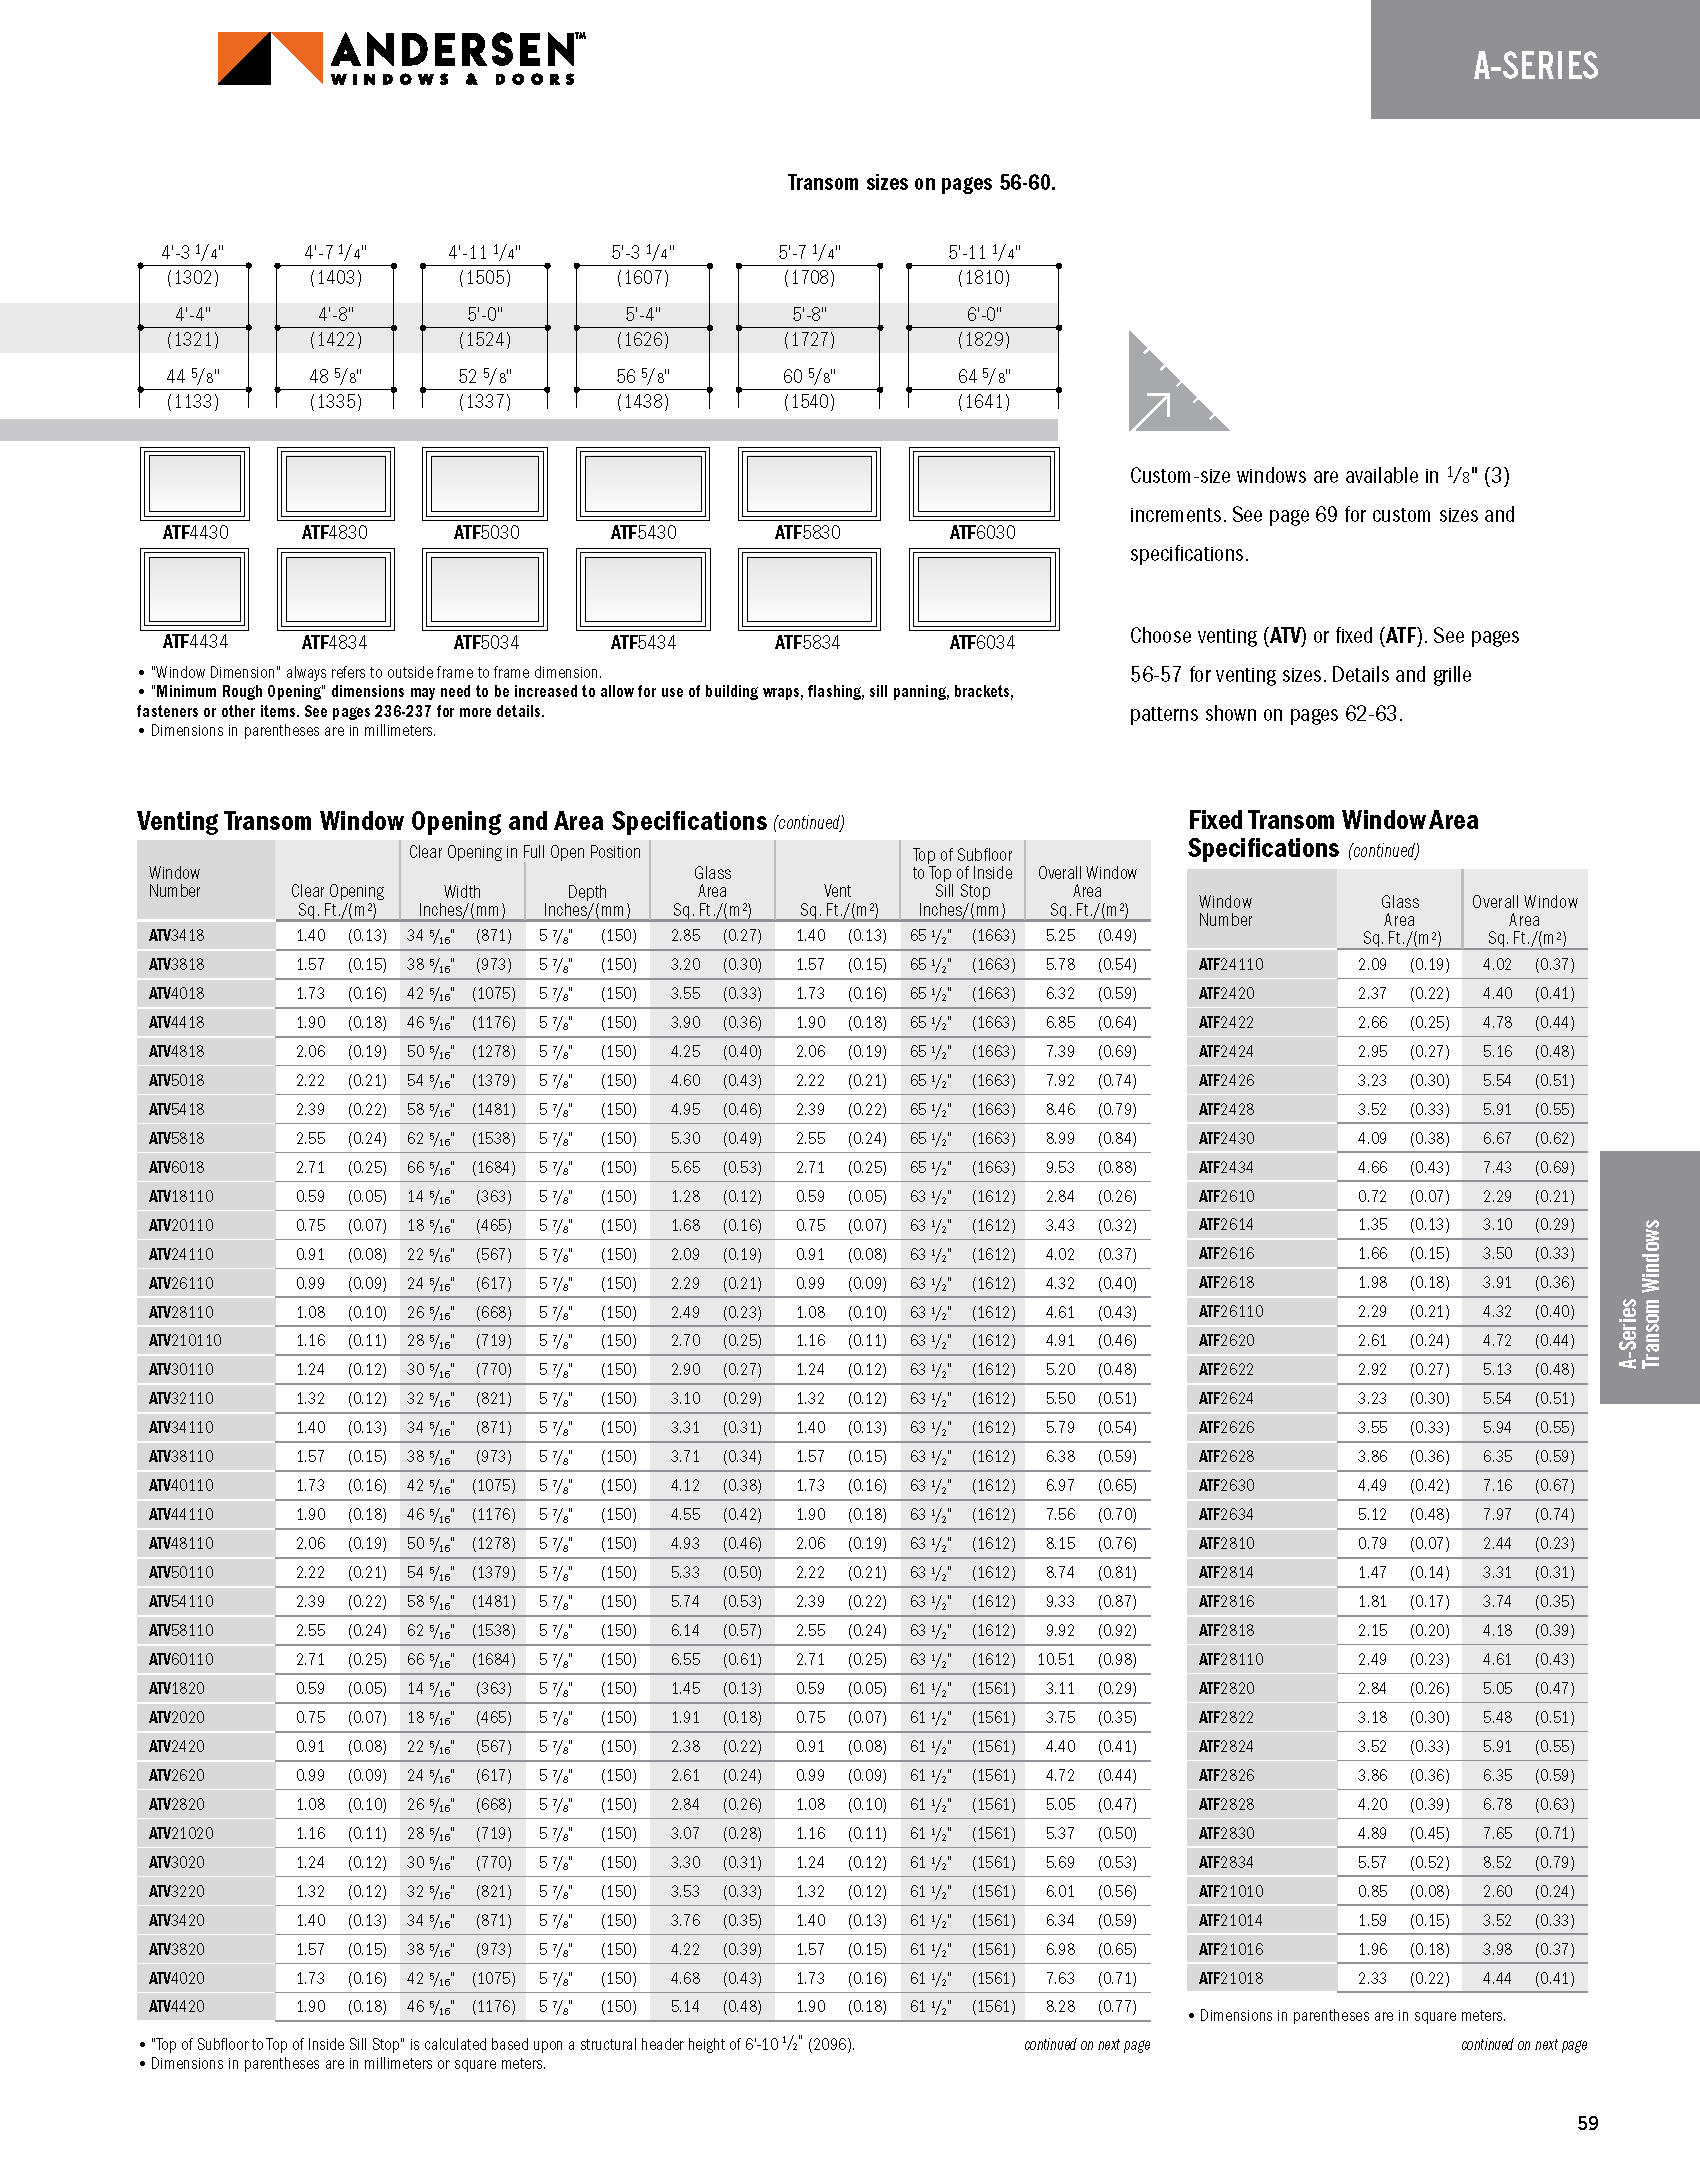tabledetected: (139, 839, 1151, 2018), (1186, 869, 1591, 1991), (138, 238, 1066, 660)
